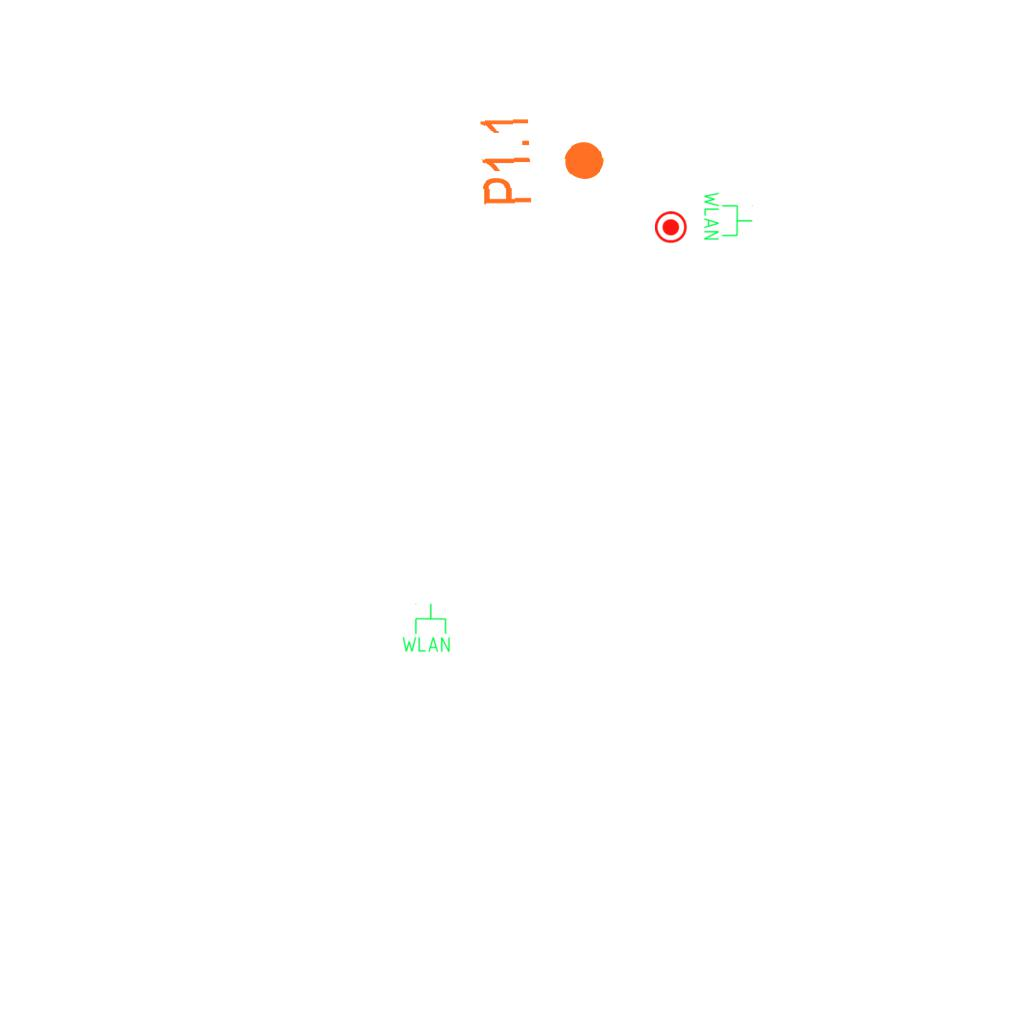Downlight_LED_Einbauleuchten_Flur_2: (476, 110, 609, 208)
Taster: (655, 211, 688, 244)
WLAN: (702, 190, 754, 242), (400, 602, 452, 654)
